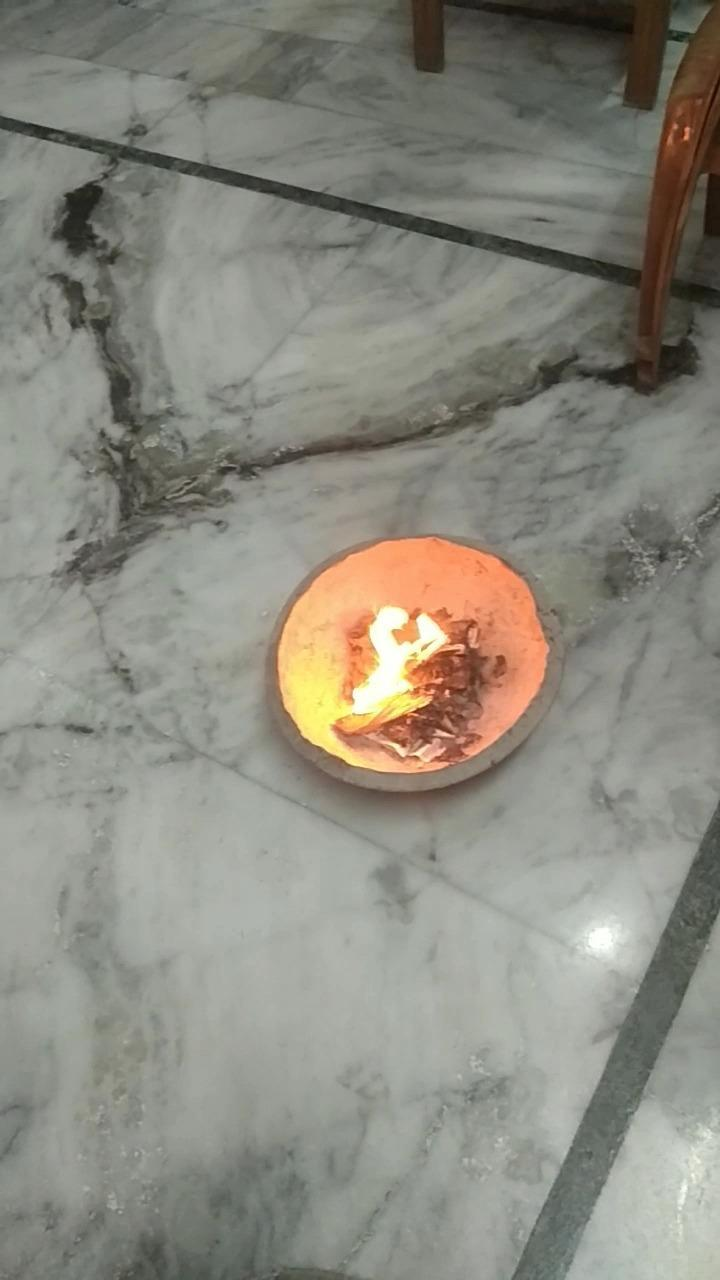fire: (346, 594, 451, 726)
